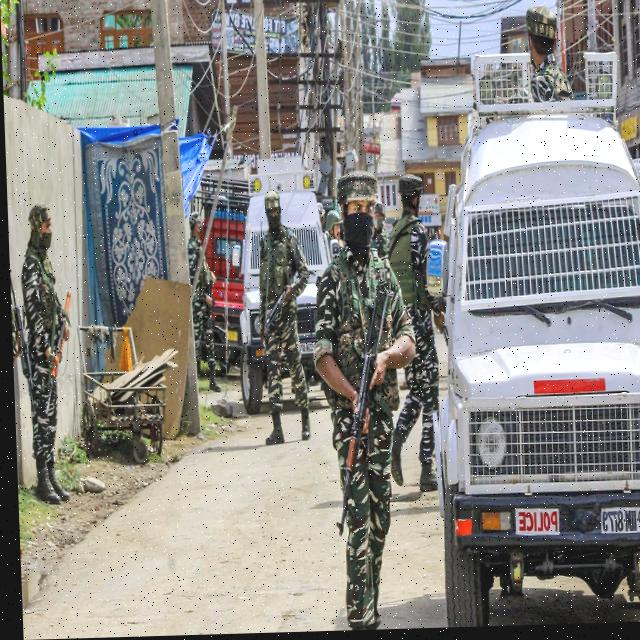plate: (593, 507, 640, 542)
